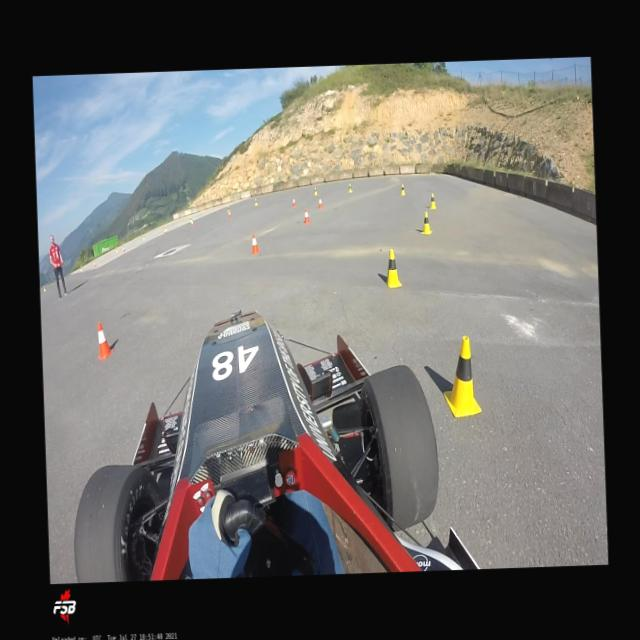orange_cone: (95, 322, 115, 359), (251, 234, 259, 254), (302, 207, 310, 223), (292, 197, 296, 207), (318, 198, 322, 208), (228, 210, 231, 218), (122, 247, 126, 253), (192, 220, 194, 227), (164, 228, 166, 234), (94, 262, 95, 268)
yellow_cone: (441, 335, 482, 417), (384, 248, 402, 288), (419, 210, 432, 234), (429, 192, 436, 209), (400, 183, 405, 195), (348, 183, 352, 193), (313, 187, 317, 194), (255, 198, 258, 205), (164, 226, 167, 231), (142, 233, 144, 240), (44, 286, 46, 292), (80, 266, 82, 272), (226, 206, 228, 212), (115, 246, 117, 251), (189, 218, 191, 222)
